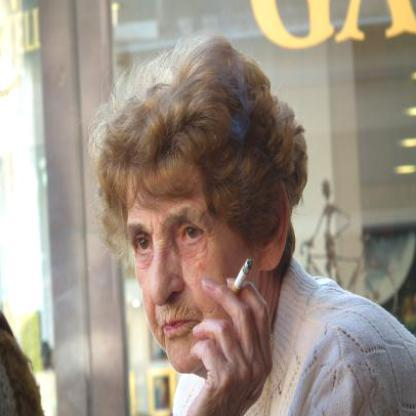cigarette: (232, 256, 255, 296)
person: (93, 48, 310, 415)
